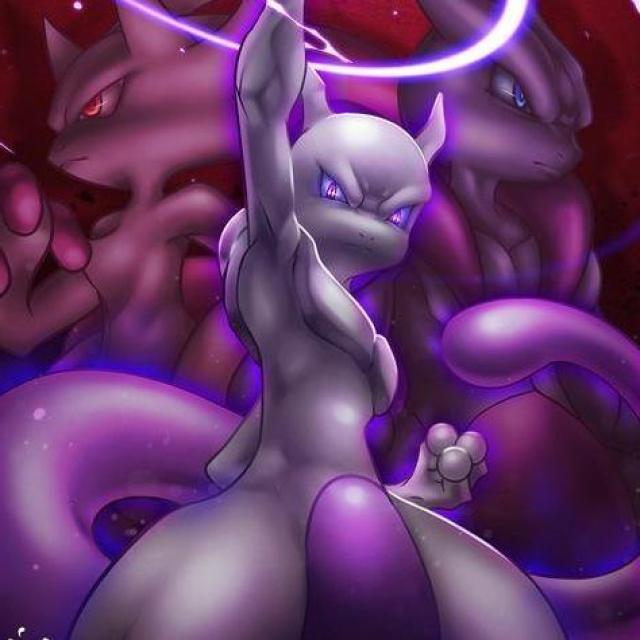Mewtwo: (178, 82, 473, 640)
